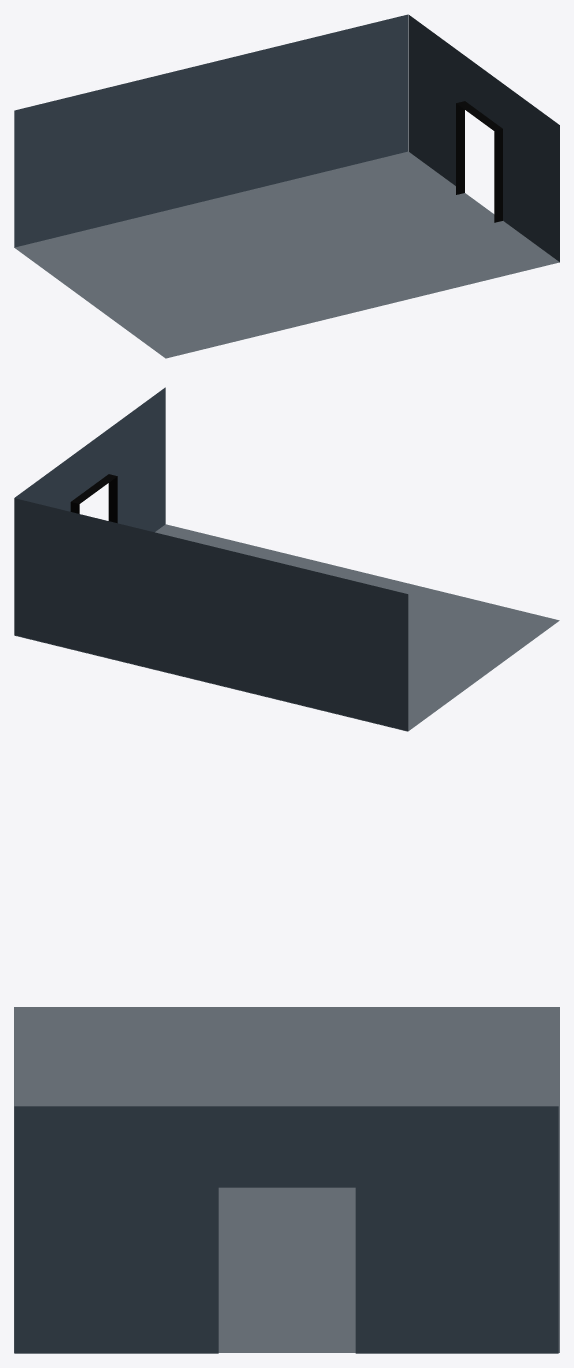
Rendered from Room_Right.fbx.
The picture shows the model from 3 angles, top to bottom: view 1: azimuth 30°, elevation 25°; view 2: azimuth 150°, elevation 25°; view 3: azimuth 270°, elevation 25°; orthographic projection. The views are drawn at different scales.
Parts seen in each view (by area): view 1: Plane.002; view 2: Plane.002; view 3: Plane.002.
Part boxes in pixels (<box>): Plane.002: <box>14,14,559,358</box>; Plane.002: <box>14,387,559,731</box>; Plane.002: <box>14,1007,559,1353</box>.
Size of the model in its own units: 1200 by 400 by 800.
